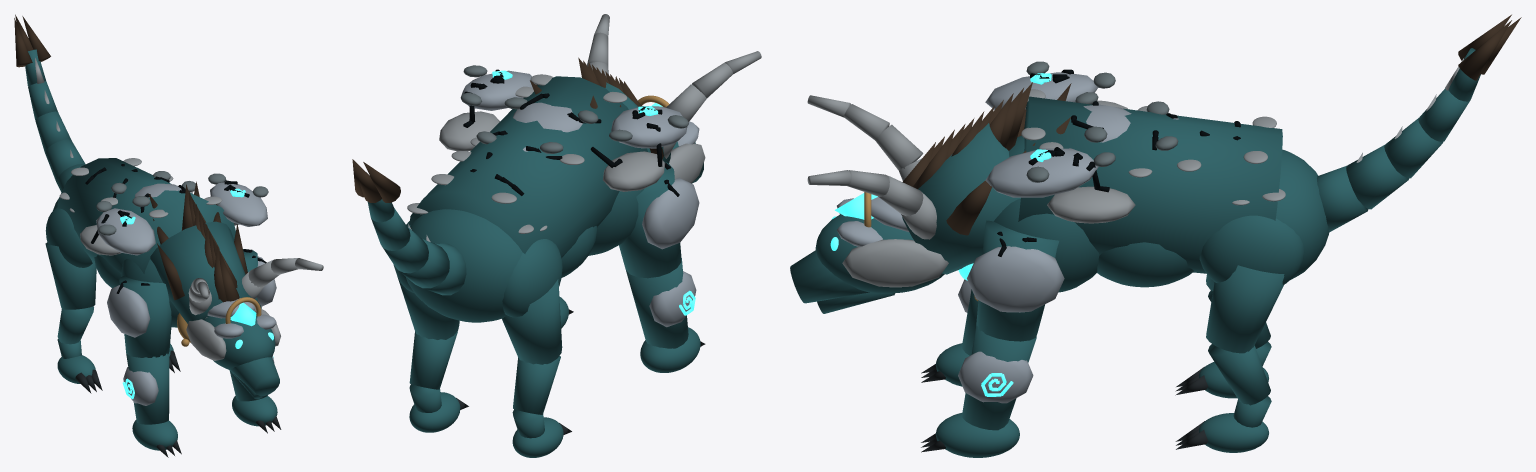
Rendered from 3D模型 monster_stonebeast.glb.
3 views of the same model, side by side, from view 1: azimuth 30°, elevation 25°; view 2: azimuth 150°, elevation 25°; view 3: azimuth 270°, elevation 25° (orthographic). The views are drawn at different scales.
Parts seen in each view (by area): view 1: monster_stonebeast_spine, monster_stonebeast_neck, monster_stonebeast_armuR, monster_stonebeast_thighR, monster_stonebeast_skull, monster_stonebeast_armlR, monster_stonebeast_shR, monster_stonebeast_legpR, monster_stonebeast_shL, monster_stonebeast_haunchR, monster_stonebeast_snout, monster_stonebeast_cheekR (+27 smaller); view 2: monster_stonebeast_spine, monster_stonebeast_hip, monster_stonebeast_thighR, monster_stonebeast_haunchR, monster_stonebeast_armuR, monster_stonebeast_legpR, monster_stonebeast_armlR, monster_stonebeast_shR, monster_stonebeast_shinR, monster_stonebeast_shinL, monster_stonebeast_shR2, monster_stonebeast_chest (+22 smaller); view 3: monster_stonebeast_spine, monster_stonebeast_neck, monster_stonebeast_haunchL, monster_stonebeast_legpL, monster_stonebeast_thighL, monster_stonebeast_cheekL, monster_stonebeast_chest, monster_stonebeast_hip, monster_stonebeast_shL, monster_stonebeast_belly, monster_stonebeast_armuL, monster_stonebeast_armlL (+25 smaller).
Part boxes in pixels (box(x1,y1,x2,y2)): monster_stonebeast_spine: box(57, 158, 235, 273); monster_stonebeast_neck: box(150, 221, 251, 323); monster_stonebeast_armuR: box(119, 276, 171, 357); monster_stonebeast_thighR: box(45, 242, 96, 309); monster_stonebeast_skull: box(204, 311, 275, 369); monster_stonebeast_armlR: box(126, 352, 169, 424); monster_stonebeast_shR: box(96, 208, 155, 255); monster_stonebeast_legpR: box(107, 285, 150, 337); monster_stonebeast_shL: box(210, 182, 267, 226); monster_stonebeast_haunchR: box(45, 208, 92, 267); monster_stonebeast_snout: box(230, 357, 279, 396); monster_stonebeast_cheekR: box(186, 319, 226, 360); monster_stonebeast_spine: box(409, 76, 647, 258); monster_stonebeast_hip: box(406, 209, 522, 322); monster_stonebeast_thighR: box(502, 279, 562, 364); monster_stonebeast_haunchR: box(502, 239, 562, 317); monster_stonebeast_armuR: box(619, 162, 681, 278); monster_stonebeast_legpR: box(642, 177, 699, 249); monster_stonebeast_armlR: box(626, 258, 688, 348); monster_stonebeast_shR: box(611, 106, 687, 148); monster_stonebeast_shinR: box(513, 356, 560, 414); monster_stonebeast_shinL: box(409, 331, 457, 389); monster_stonebeast_shR2: box(603, 151, 665, 191); monster_stonebeast_chest: box(588, 189, 643, 255); monster_stonebeast_spine: box(1018, 96, 1282, 273); monster_stonebeast_neck: box(902, 123, 1020, 274); monster_stonebeast_haunchL: box(1199, 215, 1304, 284); monster_stonebeast_legpL: box(967, 246, 1064, 312); monster_stonebeast_thighL: box(1206, 265, 1284, 353); monster_stonebeast_cheekL: box(842, 239, 948, 287); monster_stonebeast_chest: box(994, 135, 1099, 292); monster_stonebeast_hip: box(1276, 149, 1329, 279); monster_stonebeast_shL: box(985, 148, 1098, 197); monster_stonebeast_belly: box(1097, 242, 1193, 287); monster_stonebeast_armuL: box(976, 220, 1059, 341); monster_stonebeast_armlL: box(962, 326, 1036, 430).
Size of the model in its own units: 1.25 by 2.01 by 3.29.
